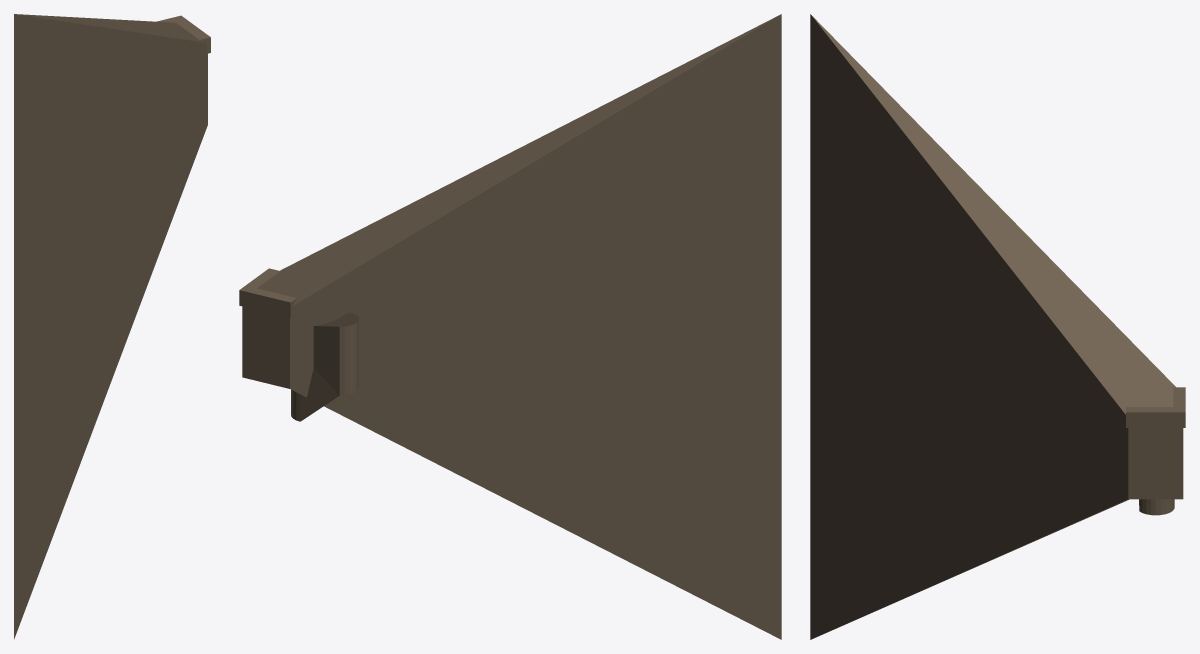
File: SM_Prop_WaxCylinder_01.glb
3 renders of one model, left to right at view 1: azimuth 30°, elevation 25°; view 2: azimuth 150°, elevation 25°; view 3: azimuth 270°, elevation 25°, orthographic.
Visible parts, largest first — view 1: SM_Prop_WaxCylinder_01; view 2: SM_Prop_WaxCylinder_01; view 3: SM_Prop_WaxCylinder_01.
Boxes of the visible parts, bbox=[...] form: SM_Prop_WaxCylinder_01: bbox=[14, 14, 210, 639]; SM_Prop_WaxCylinder_01: bbox=[239, 14, 781, 639]; SM_Prop_WaxCylinder_01: bbox=[810, 14, 1185, 639].
Bounding box in the file's own units: 0.593 × 1 × 0.543.
